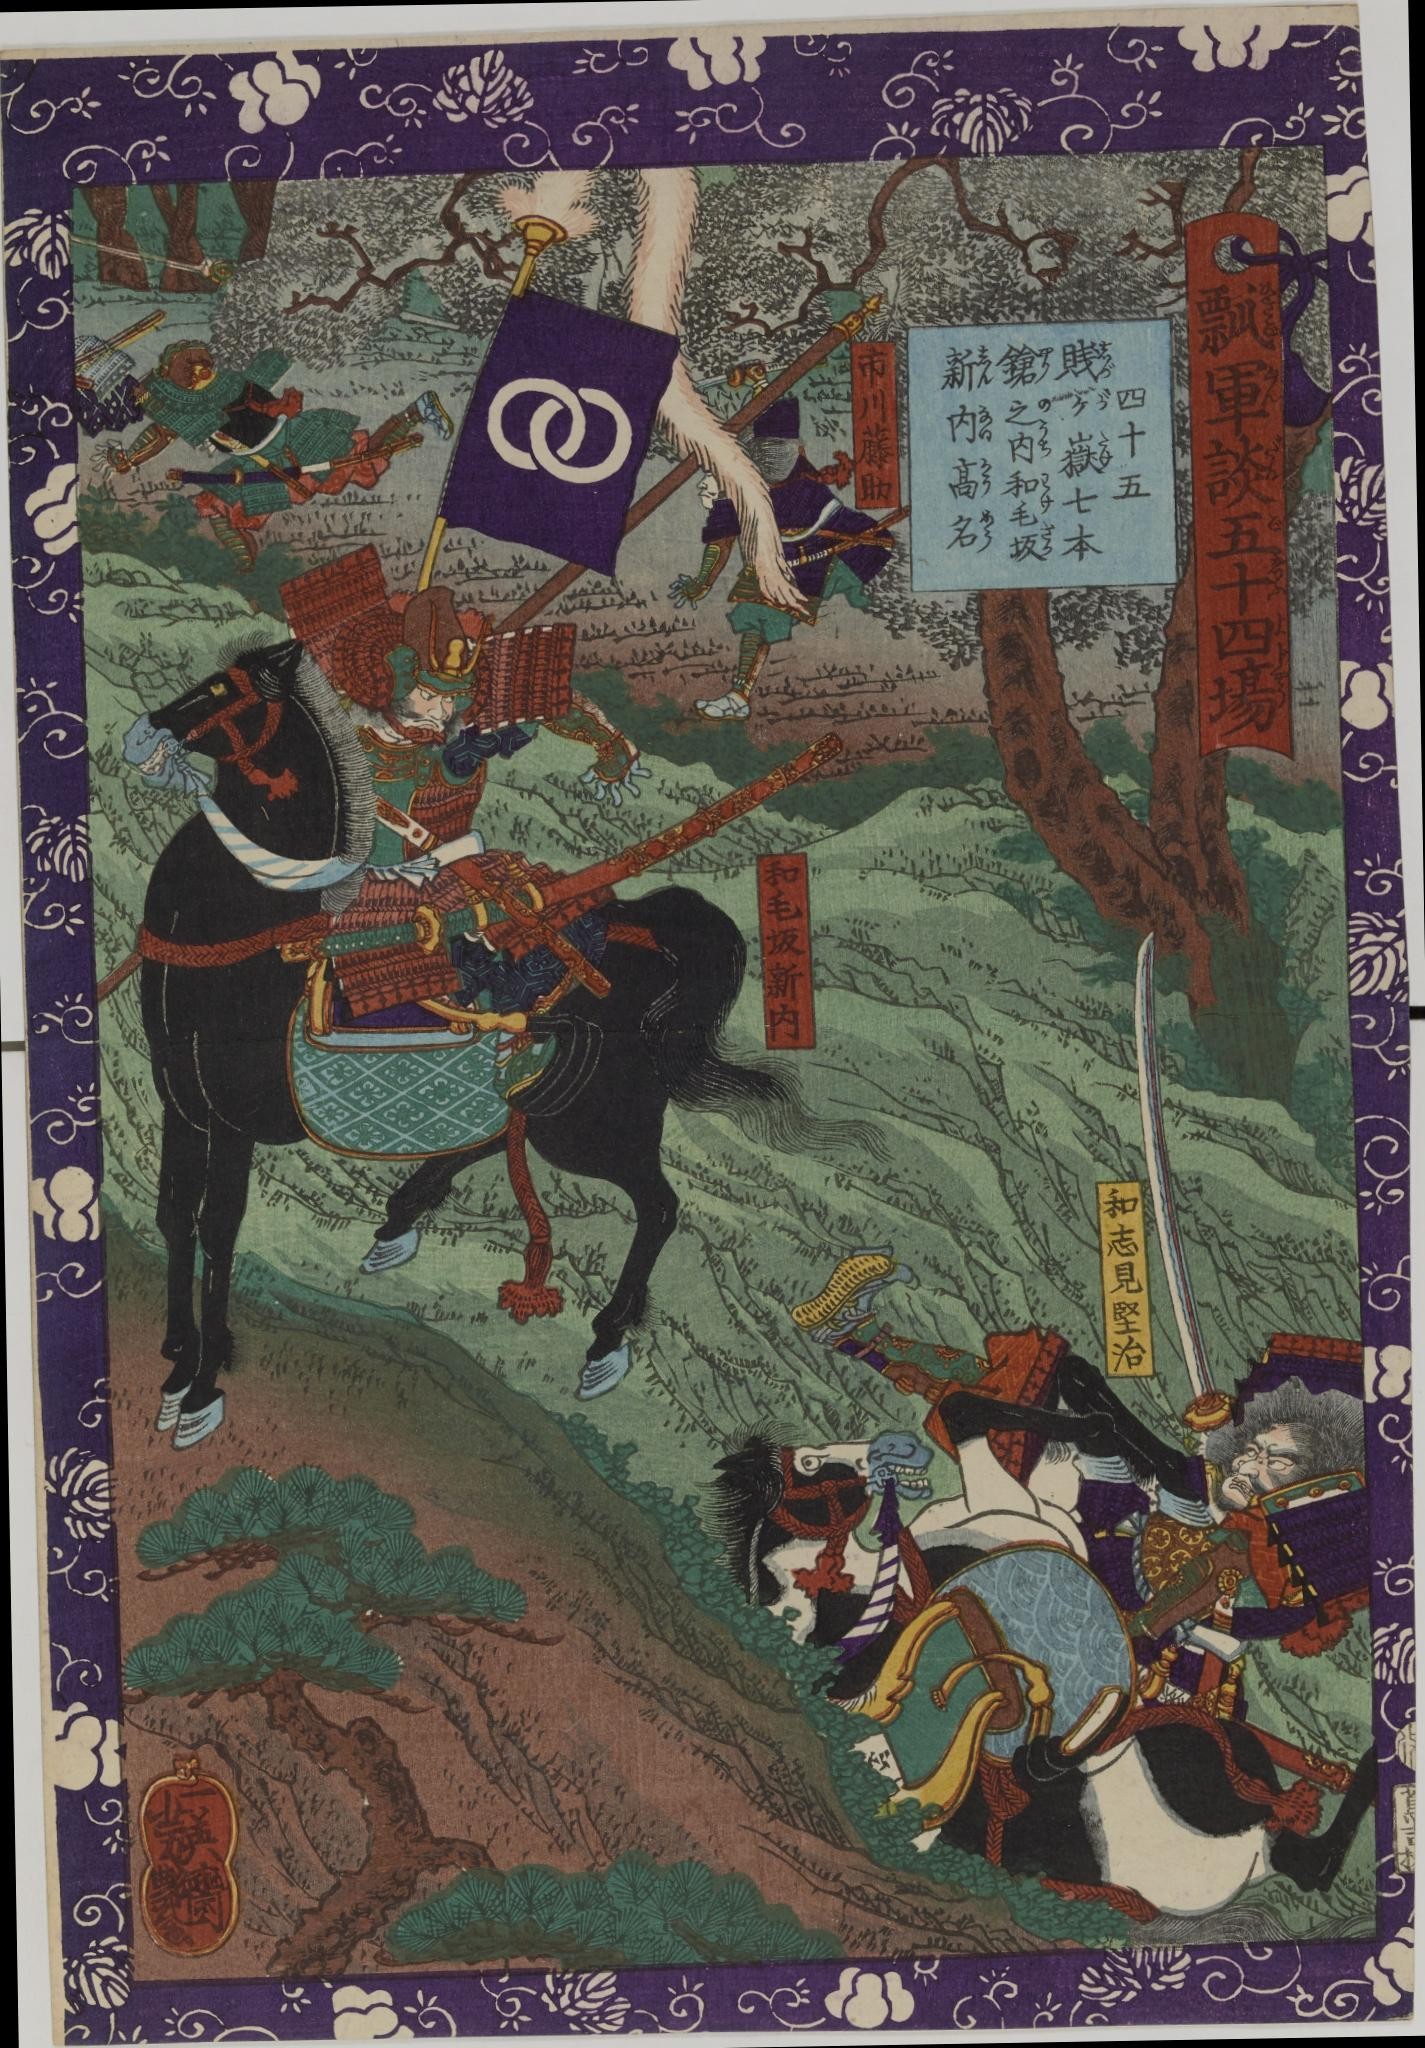MainZone-Character: (1206, 644, 1294, 744), (1192, 280, 1287, 361), (1198, 356, 1285, 440), (1206, 436, 1287, 509), (1207, 552, 1287, 610), (1207, 607, 1291, 655), (1209, 512, 1290, 557), (1053, 336, 1120, 389), (943, 451, 997, 506), (940, 342, 996, 394), (943, 506, 996, 557), (999, 339, 1053, 389), (941, 398, 996, 447), (1055, 431, 1112, 476), (1002, 392, 1058, 436), (1005, 524, 1059, 566), (1003, 433, 1056, 465), (1005, 496, 1056, 524), (1005, 468, 1050, 498)
MainZone-Ruby: (1255, 280, 1280, 345), (1269, 644, 1290, 710), (974, 506, 996, 556), (1262, 434, 1282, 487), (1266, 551, 1287, 602), (1095, 339, 1119, 381), (1260, 366, 1283, 406), (975, 342, 994, 388), (1095, 428, 1112, 472), (1035, 345, 1053, 383), (1035, 394, 1050, 437), (979, 400, 994, 444), (1036, 523, 1055, 557), (980, 454, 993, 500), (1266, 512, 1282, 540), (1036, 468, 1050, 492), (1039, 498, 1055, 517), (1039, 439, 1052, 462), (1273, 615, 1285, 635)
